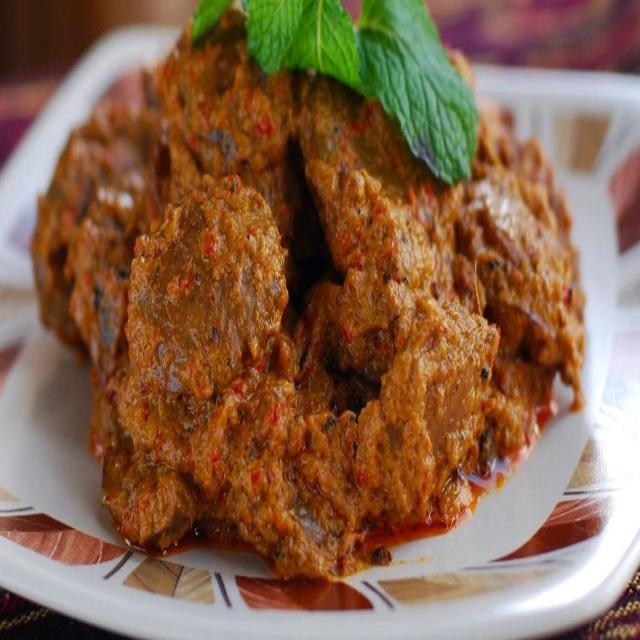Rendang: (1, 6, 626, 588)
